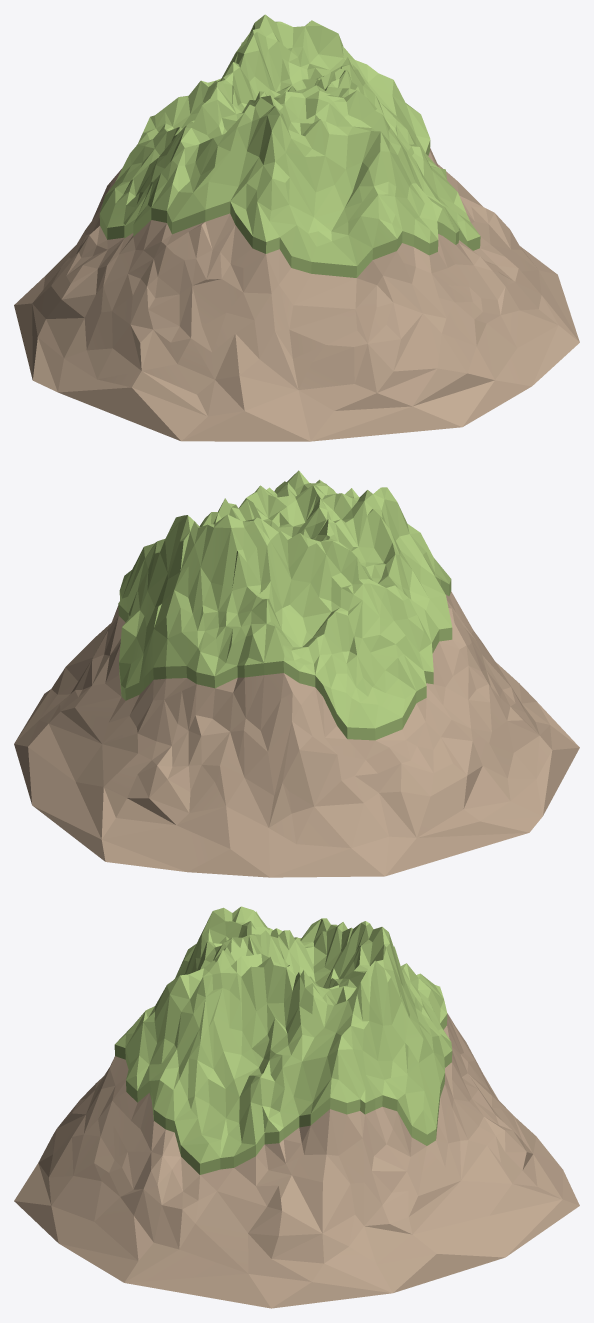
File: floating_moss_2.glb
The picture shows the model from 3 angles, top to bottom: view 1: azimuth 30°, elevation 25°; view 2: azimuth 150°, elevation 25°; view 3: azimuth 270°, elevation 25°; orthographic projection. The views are drawn at different scales.
Visible parts, largest first — view 1: PP_Forest_Mountain_Moss_02; view 2: PP_Forest_Mountain_Moss_02; view 3: PP_Forest_Mountain_Moss_02.
Boxes of the visible parts, x1,y1,x2,y2 form: PP_Forest_Mountain_Moss_02: [14, 14, 579, 441]; PP_Forest_Mountain_Moss_02: [14, 470, 579, 877]; PP_Forest_Mountain_Moss_02: [14, 906, 579, 1308].
Bounding box in the file's own units: 40.42 × 21.3 × 40.42.
